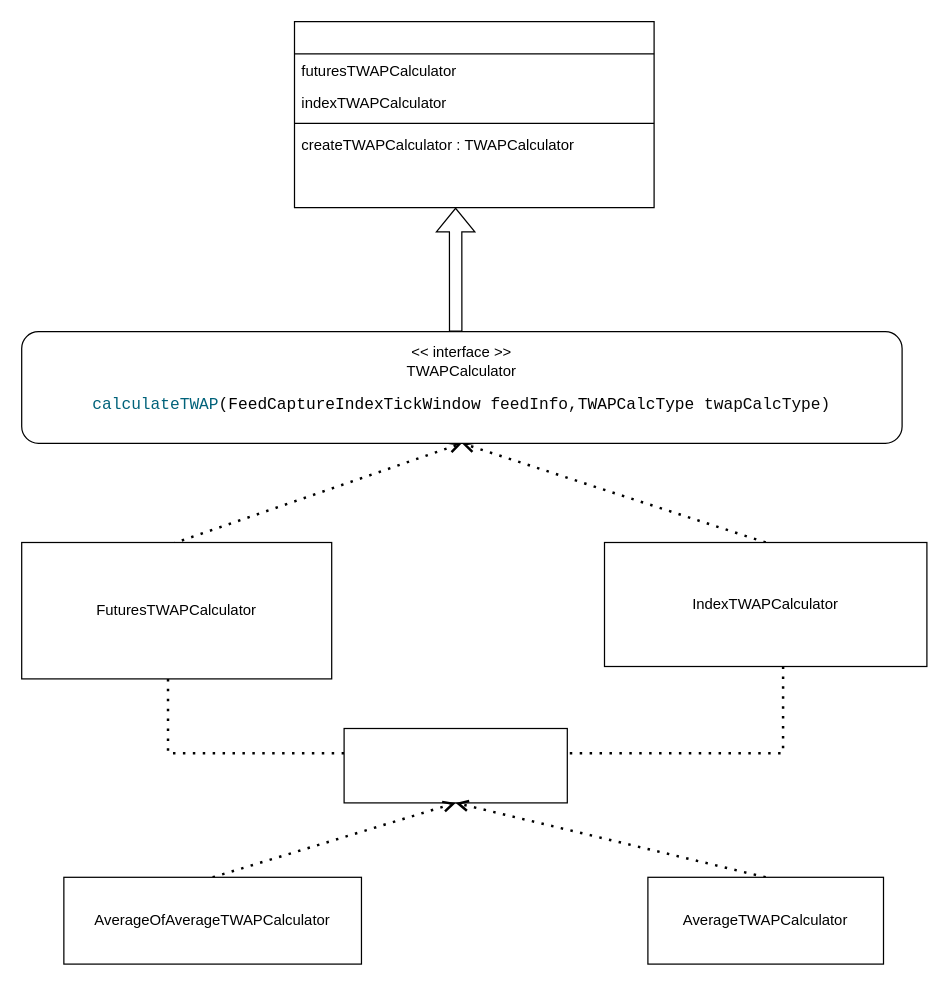
The diagram is 949 pixels wide and 986 high, and some of its shapes have lost their labels. The shapes that lost their labels are listed below. From the top down, each one's box as (x1, y1, x2, y2) in pixels, then its label:
(293, 20, 654, 208): TWAPCalculatorFactory
(343, 727, 567, 803): TWAPCalcType
